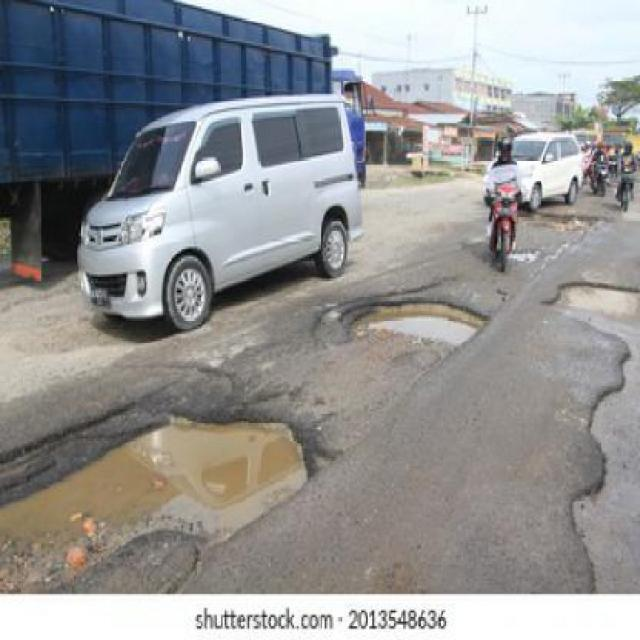Pothole: (0, 413, 309, 590), (340, 297, 489, 349)
